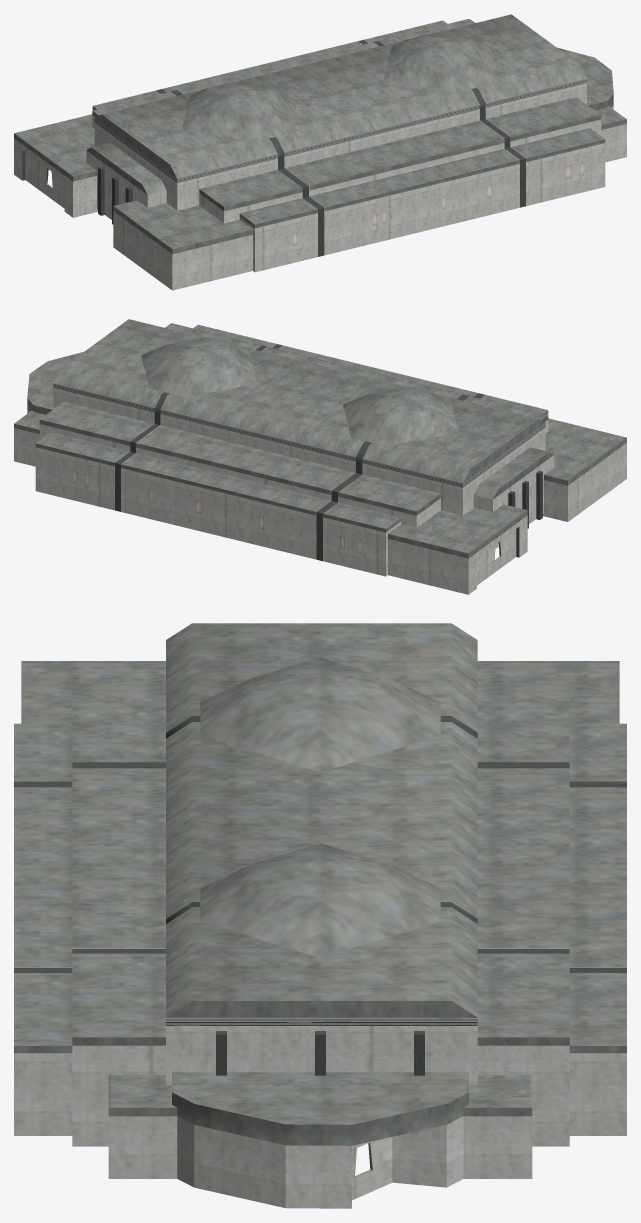
File: thm_corl_cantina_r0_mesh_l3.fbx
3 renders of one model, top to bottom at view 1: azimuth 30°, elevation 25°; view 2: azimuth 150°, elevation 25°; view 3: azimuth 270°, elevation 25°, orthographic. The views are drawn at different scales.
Visible parts, largest first — view 1: mesh_node; view 2: mesh_node; view 3: mesh_node.
Part boxes in pixels (left/top/right/bottom): mesh_node: left=14, top=14, right=626, bottom=290; mesh_node: left=14, top=319, right=626, bottom=594; mesh_node: left=14, top=623, right=626, bottom=1208.
Size of the model in its own units: 101 by 19.97 by 55.66.
1 material, 1 textured.
